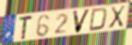2: (54, 12, 70, 35)
6: (35, 13, 51, 38)
D: (88, 7, 109, 32)
T: (18, 14, 34, 41)
V: (72, 8, 92, 34)
X: (107, 5, 127, 30)
